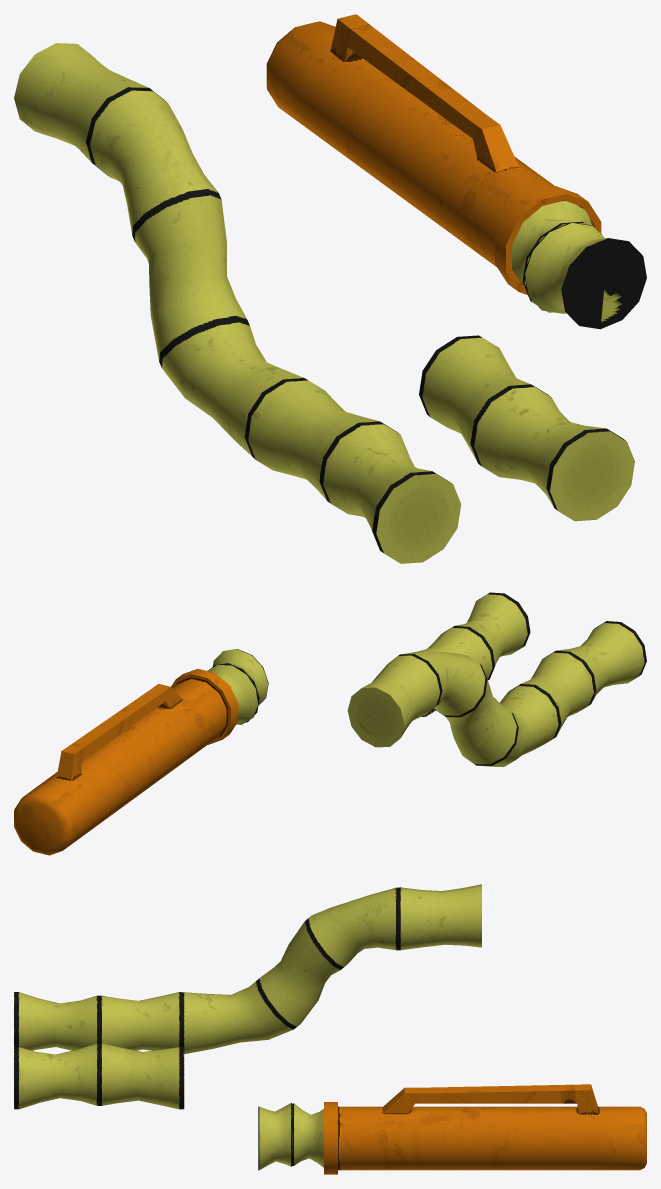
Rendered from manguera_tubo.fbx.
The picture shows the model from 3 angles, top to bottom: view 1: azimuth 30°, elevation 25°; view 2: azimuth 150°, elevation 25°; view 3: azimuth 270°, elevation 25°; orthographic projection. The views are drawn at different scales.
Visible parts, largest first — view 1: Loft001, Box003, Loft004; view 2: Loft001, Box003, Loft004; view 3: Box003, Loft001, Loft004.
Boxes of the visible parts, x1=… form: Loft001: x1=14, y1=43, x2=461, y2=563; Box003: x1=266, y1=14, x2=646, y2=329; Loft004: x1=419, y1=335, x2=634, y2=521; Loft001: x1=347, y1=621, x2=646, y2=766; Box003: x1=14, y1=649, x2=268, y2=855; Loft004: x1=418, y1=592, x2=530, y2=716; Box003: x1=258, y1=1084, x2=646, y2=1174; Loft001: x1=14, y1=884, x2=481, y2=1053; Loft004: x1=14, y1=1043, x2=184, y2=1109.
Size of the model in its own units: 543 by 280 by 972.
Materials: 1 (1 with a texture image).
